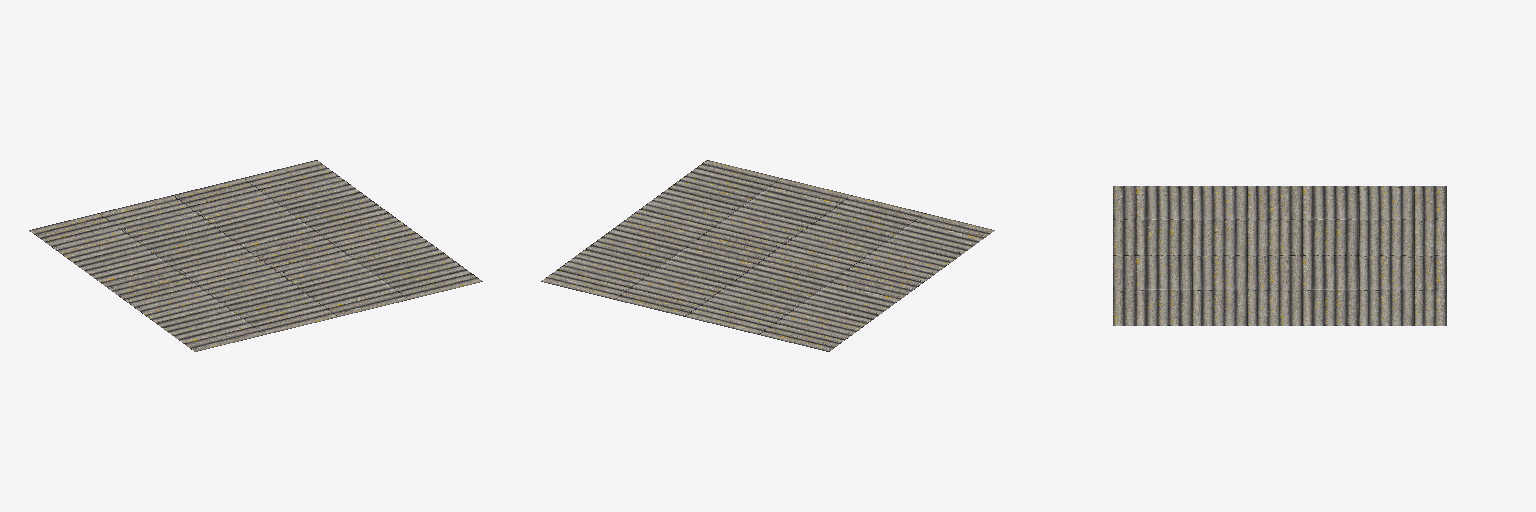
The picture shows the model from 3 angles: view 1: azimuth 30°, elevation 25°; view 2: azimuth 150°, elevation 25°; view 3: azimuth 270°, elevation 25°; orthographic projection.
Parts seen in each view (by area): view 1: ShedRoof_Plane.005; view 2: ShedRoof_Plane.005; view 3: ShedRoof_Plane.005.
Boxes of the visible parts, box(x1,y1,x2,y2) form: ShedRoof_Plane.005: box(29, 160, 482, 351); ShedRoof_Plane.005: box(541, 160, 994, 351); ShedRoof_Plane.005: box(1113, 186, 1446, 325).
Size of the model in its own units: 2.5 by 0 by 2.5.
1 materials, 1 textured.